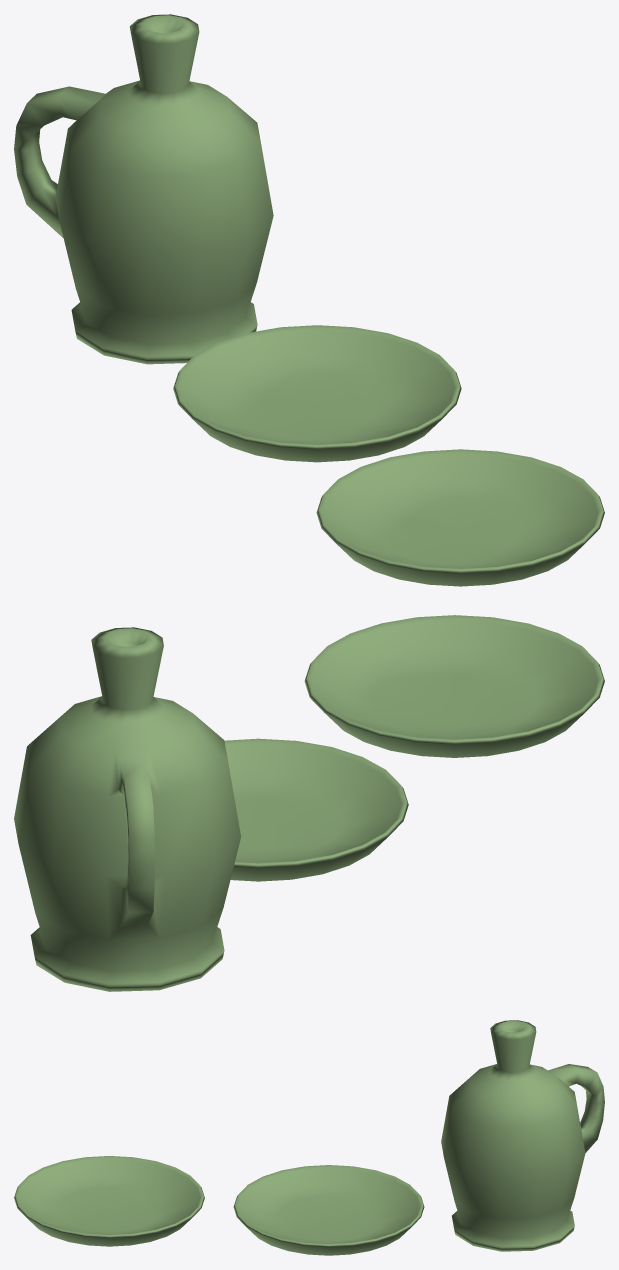
Rendered from Jar_Break_09_Lod1.fbx.
The picture shows the model from 3 angles, top to bottom: view 1: azimuth 30°, elevation 25°; view 2: azimuth 150°, elevation 25°; view 3: azimuth 270°, elevation 25°; orthographic projection. The views are drawn at different scales.
Parts seen in each view (by area): view 1: Jar_Break_09_Lod1; view 2: Jar_Break_09_Lod1; view 3: Jar_Break_09_Lod1.
Boxes of the visible parts, x1=… form: Jar_Break_09_Lod1: x1=14, y1=14, x2=604, y2=586; Jar_Break_09_Lod1: x1=14, y1=615, x2=604, y2=991; Jar_Break_09_Lod1: x1=14, y1=1020, x2=604, y2=1255.
Size of the model in its own units: 26.03 by 27.65 by 73.9.
